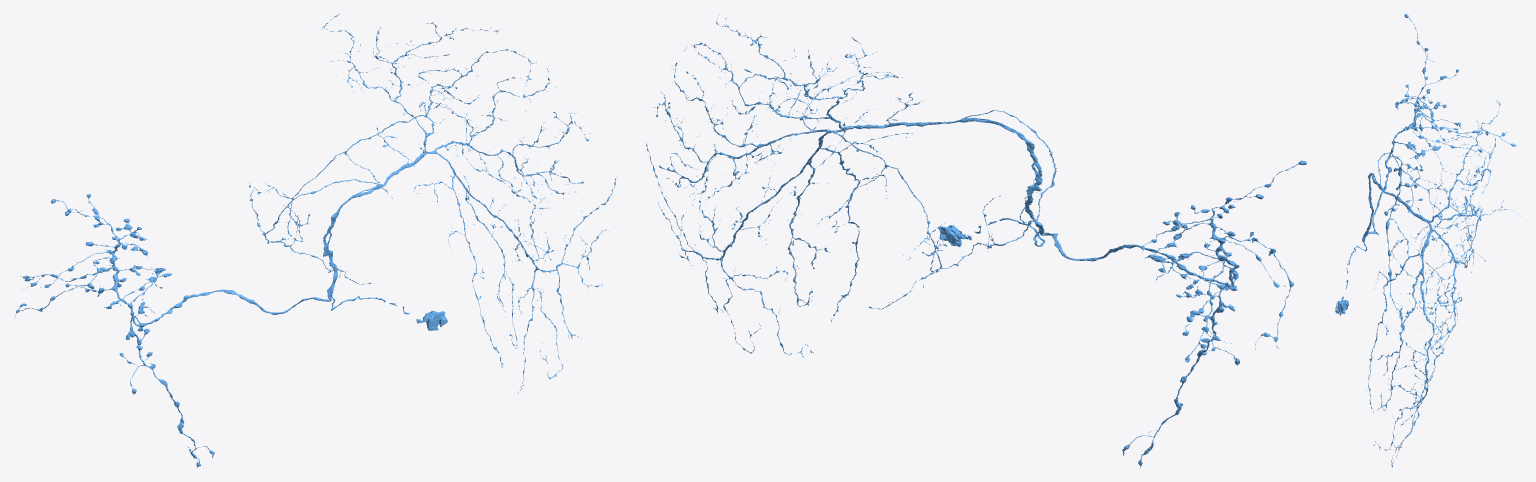
The model's file is VFB_fw001778.glb.
3 views of the same model, side by side, from view 1: azimuth 30°, elevation 25°; view 2: azimuth 150°, elevation 25°; view 3: azimuth 270°, elevation 25° (orthographic). The views are drawn at different scales.
Visible parts, largest first — view 1: VFB_fw001778; view 2: VFB_fw001778; view 3: VFB_fw001778.
Part boxes in pixels (x1,y1,x2,y2): VFB_fw001778: [14, 14, 616, 467]; VFB_fw001778: [646, 14, 1306, 467]; VFB_fw001778: [1335, 14, 1521, 466].
Size of the model in its own units: 0.1978 by 0.1199 by 0.0649.
